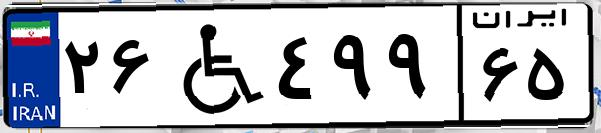2: (57, 26, 110, 100)
4: (270, 28, 330, 110)
5: (525, 38, 570, 115)
6: (475, 38, 525, 113), (110, 28, 158, 98)
9: (385, 28, 445, 110), (330, 28, 385, 110)
ژ (معلولین و جانبازان): (158, 12, 270, 120)
